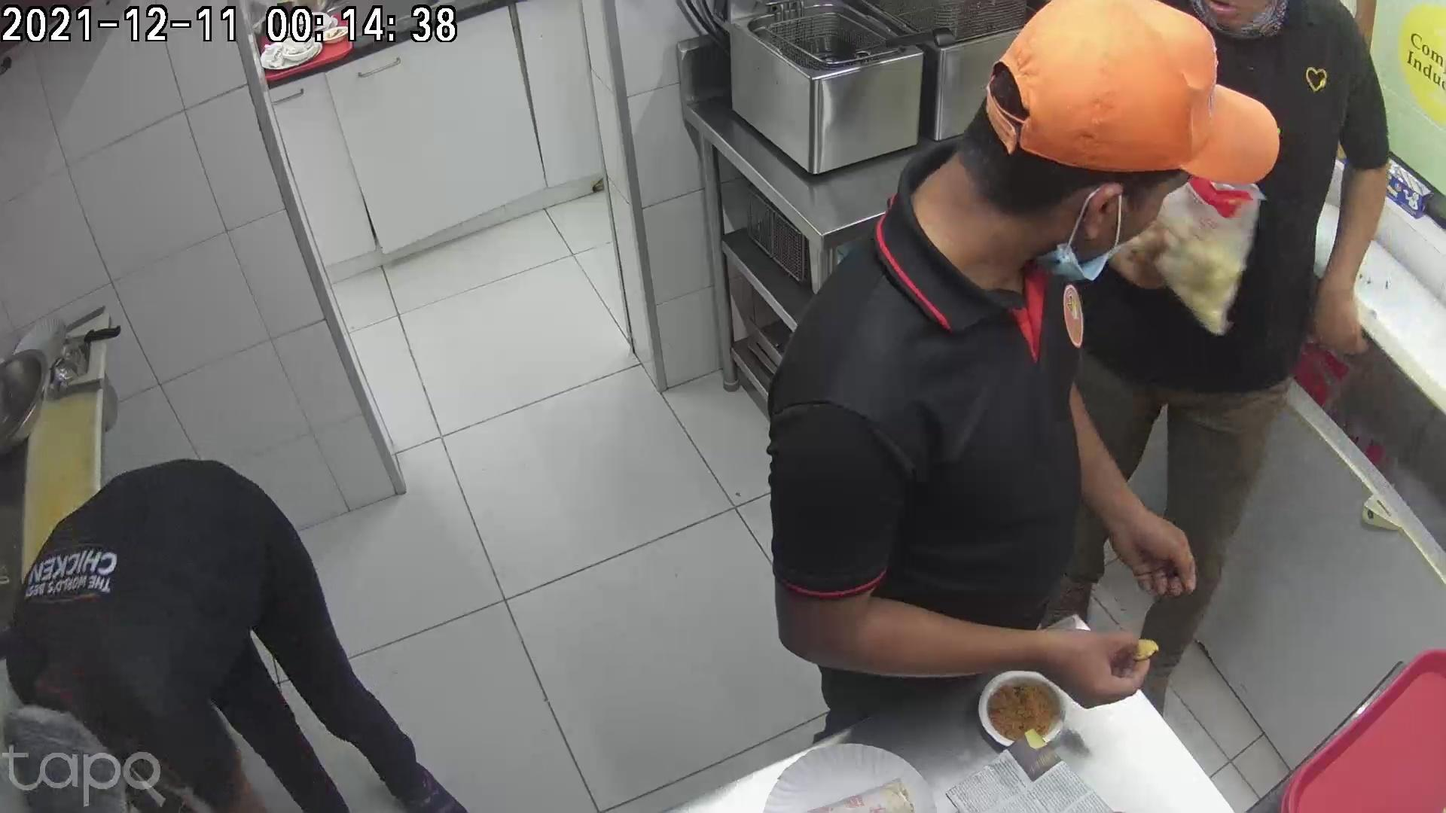no_gloves: (946, 436, 1007, 556)
